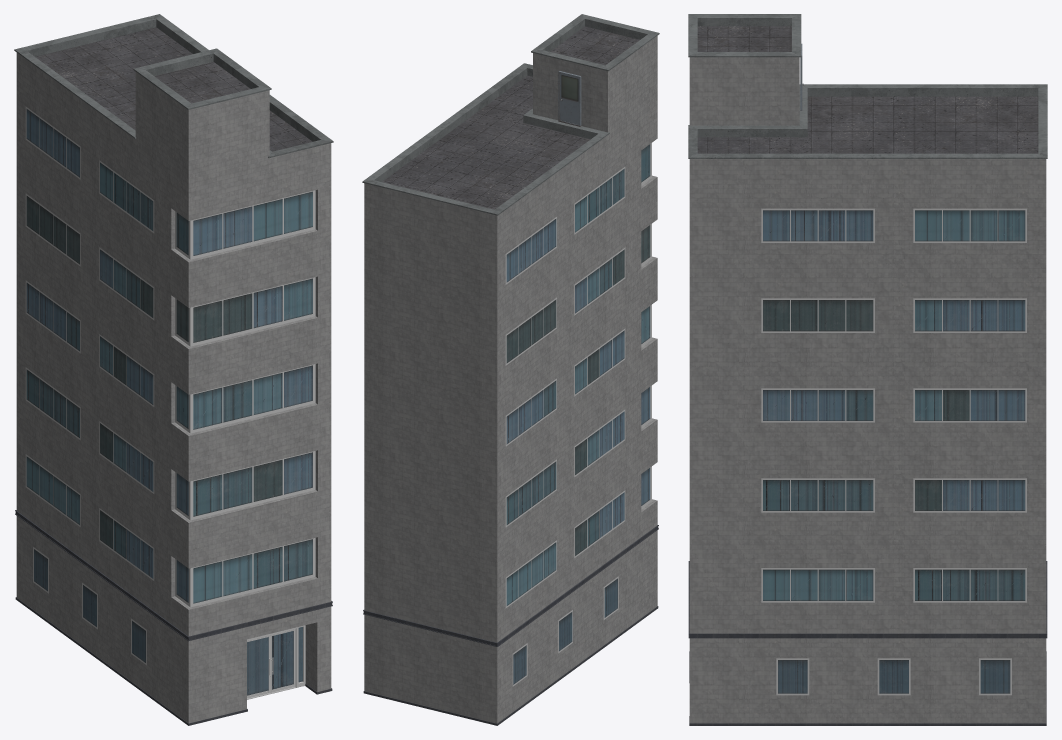
Rendered from jctBld12_6E_low.fbx.
3 renders of one model, left to right at view 1: azimuth 30°, elevation 25°; view 2: azimuth 150°, elevation 25°; view 3: azimuth 270°, elevation 25°, orthographic. The views are drawn at different scales.
Parts seen in each view (by area): view 1: jctBld12_6E_low; view 2: jctBld12_6E_low; view 3: jctBld12_6E_low.
Part boxes in pixels (bbox=[...]): jctBld12_6E_low: bbox=[14, 14, 333, 725]; jctBld12_6E_low: bbox=[362, 14, 659, 725]; jctBld12_6E_low: bbox=[688, 14, 1047, 725].
Bounding box in the file's own units: 560 × 2275 × 1160.
